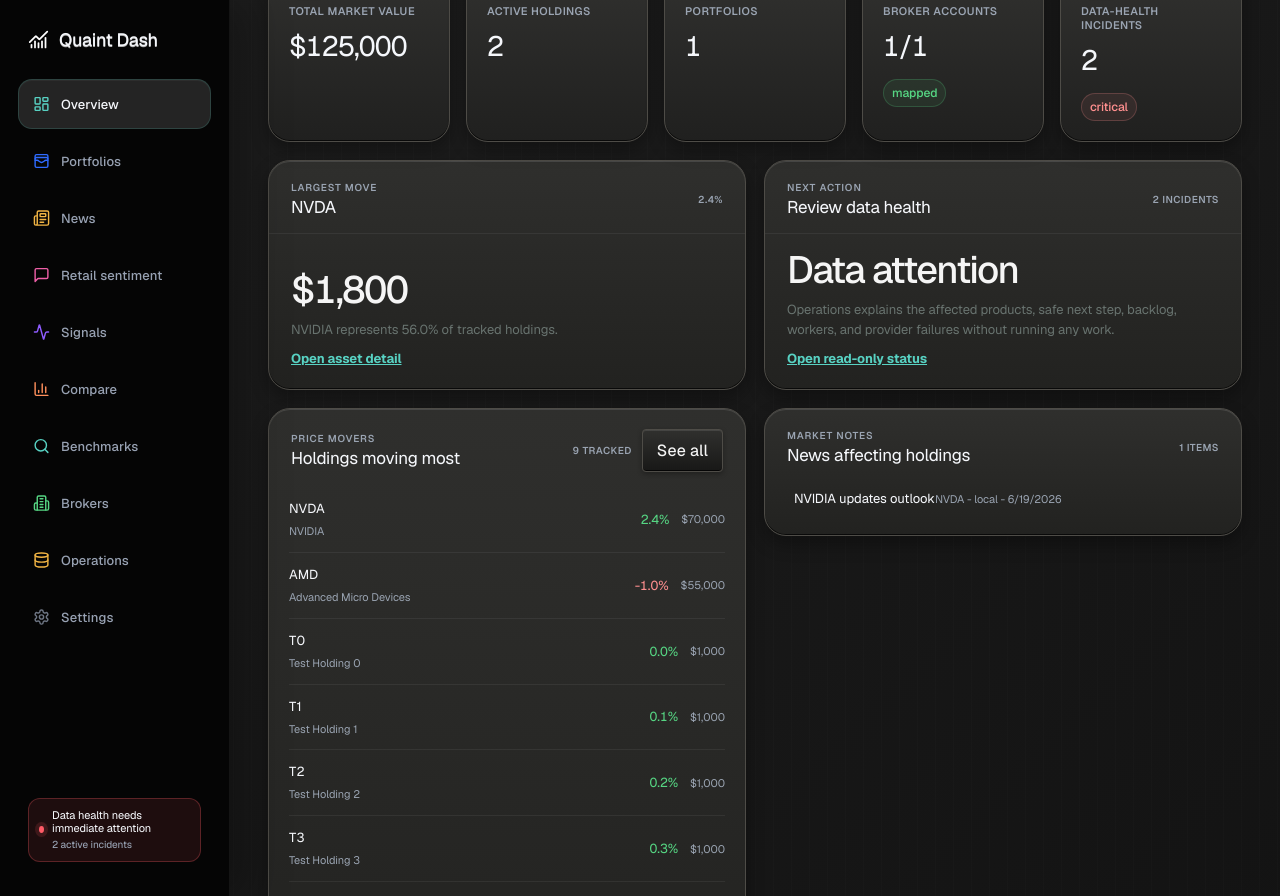
Scenario: App shell › renders overview data and expands the mover list
The width and height of the screenshot is (1280, 896).
(page scrolled)
Expected: the text "Total market value" is shown, [289, 4, 429, 18]
Expected: the text "Data-health incidents" is shown, [1081, 4, 1159, 32]
Click the button "See all" at [682, 450], box [642, 429, 723, 472]
(page scrolled)
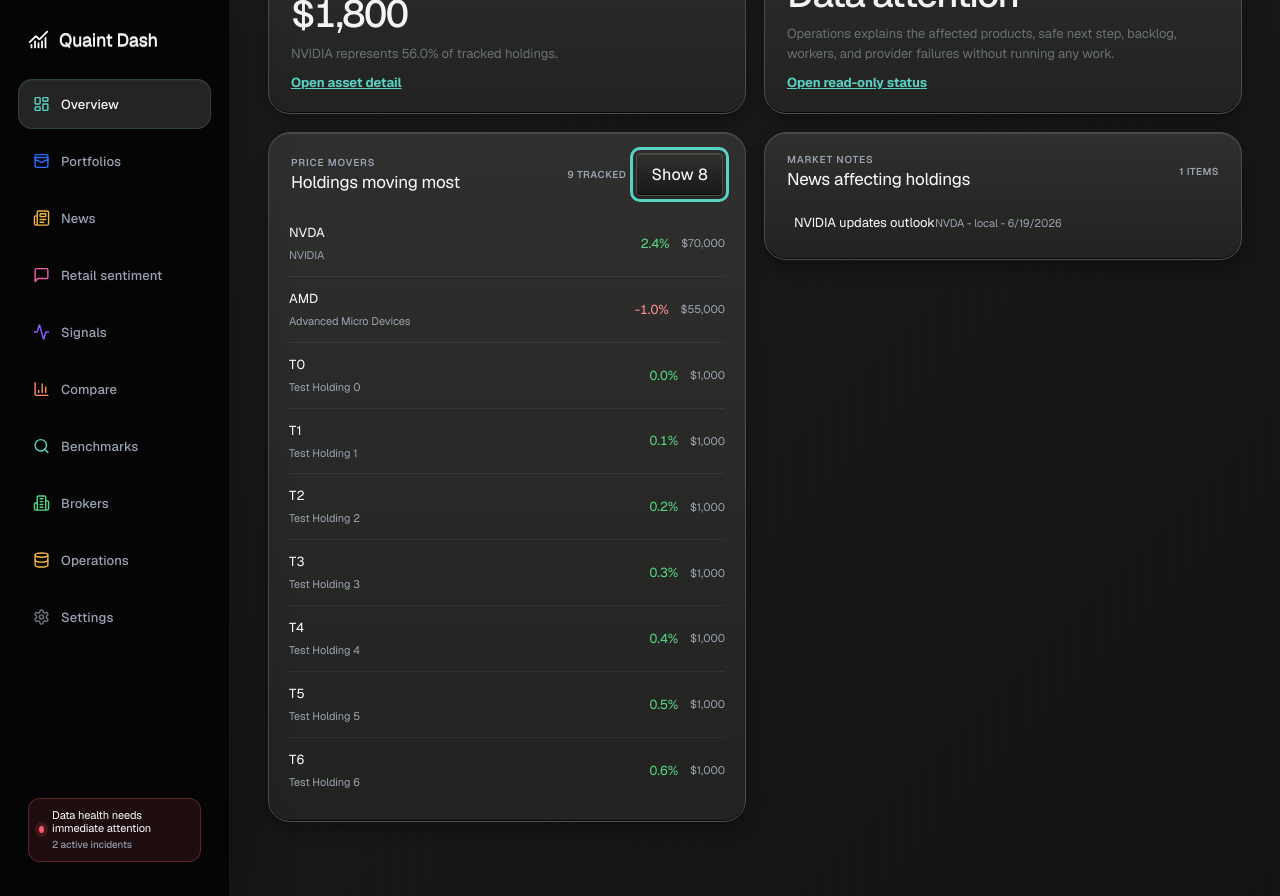
Expected: the button "Show 8" is shown, [636, 153, 723, 196]
Expected: the text "Test Holding 6" is shown, [289, 775, 360, 789]
